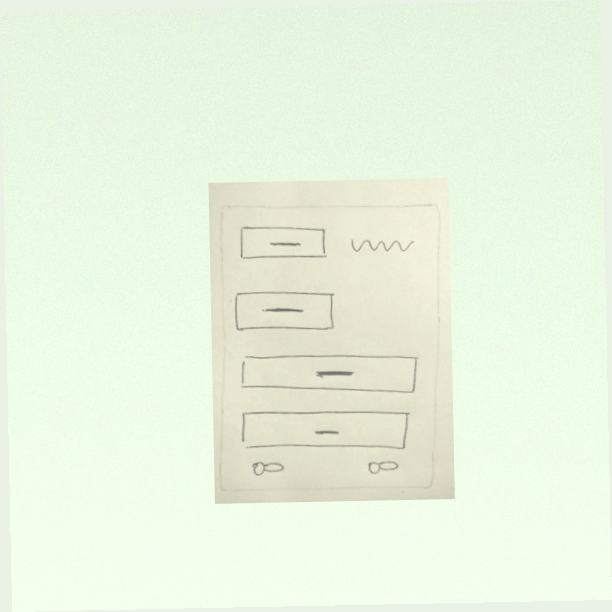button: (238, 347, 423, 401), (233, 403, 418, 457), (231, 285, 338, 332), (235, 219, 332, 266)
switch: (249, 458, 285, 480), (364, 456, 401, 477)
text: (345, 231, 419, 262)
